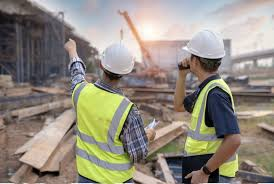Casco de seguridad: (180, 27, 232, 62), (98, 42, 140, 78)
